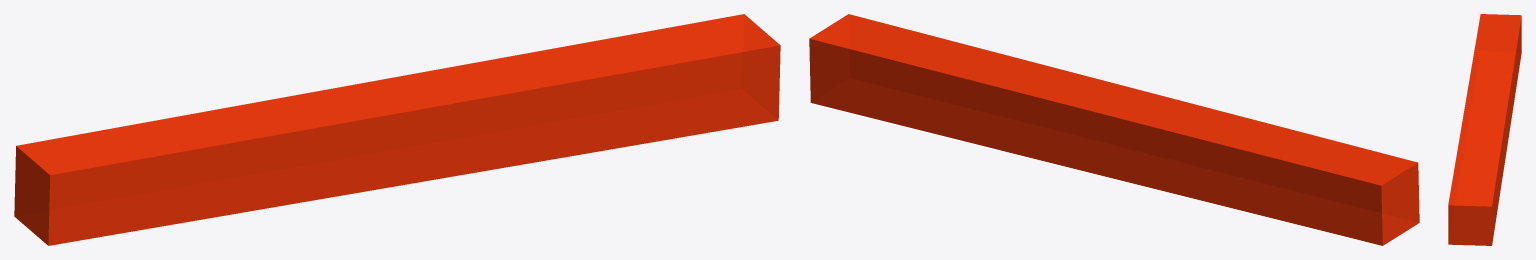
The model's file is Event_421556567_EErechit_68.fbx.
3 renders of one model, left to right at view 1: azimuth 30°, elevation 25°; view 2: azimuth 150°, elevation 25°; view 3: azimuth 270°, elevation 25°, orthographic. The views are drawn at different scales.
Visible parts, largest first — view 1: Model; view 2: Model; view 3: Model.
Boxes of the visible parts, x1,y1,x2,y2 form: Model: (14, 14, 780, 245); Model: (809, 14, 1419, 245); Model: (1448, 14, 1521, 245).
Bounding box in the file's own units: 0.7629 × 0.0964 × 0.1296.
